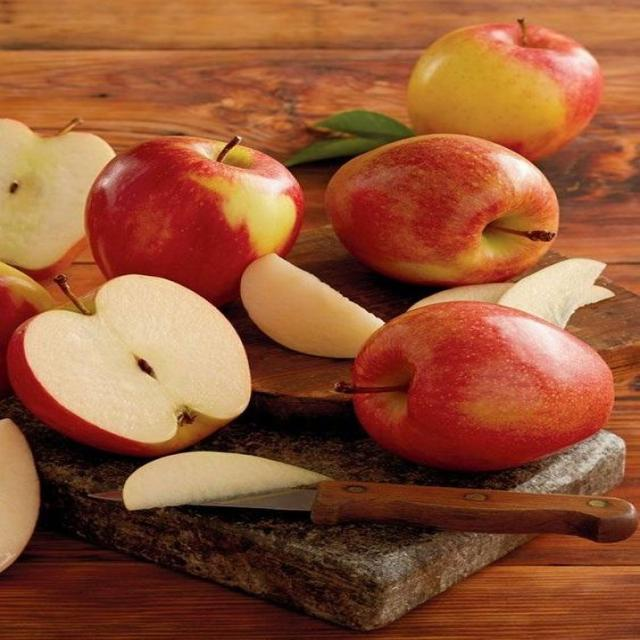apple: (337, 302, 613, 471), (7, 275, 251, 455), (87, 137, 303, 305), (326, 134, 558, 285), (407, 21, 602, 159), (0, 119, 114, 280), (240, 254, 384, 358), (409, 259, 613, 327), (123, 451, 329, 510), (498, 259, 605, 327), (0, 263, 53, 396), (0, 419, 39, 571)
